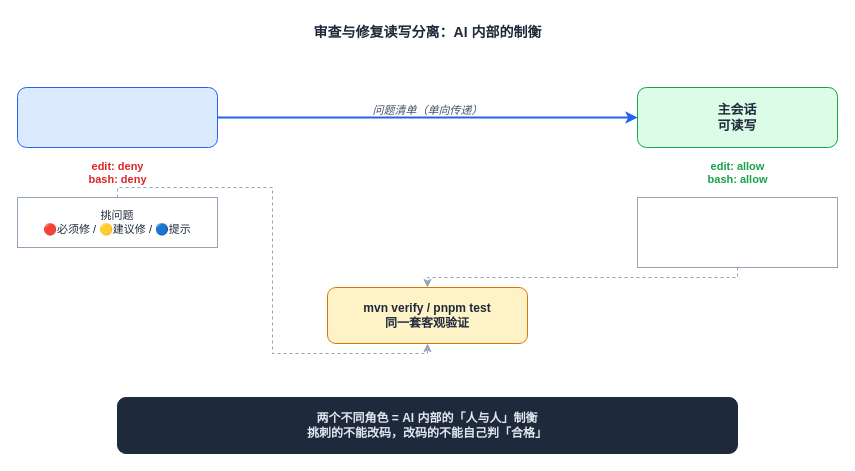
This 855x471 diagram has some shape labels left out. The shapes that lost their labels are listed below. From the top down, each one's centre as x and y in pixels, then its label:
[117,117]: @code-reviewer 只读 subagent
[737,232]: 改代码 修 🔴🟡 → verify → push 更新 MR
